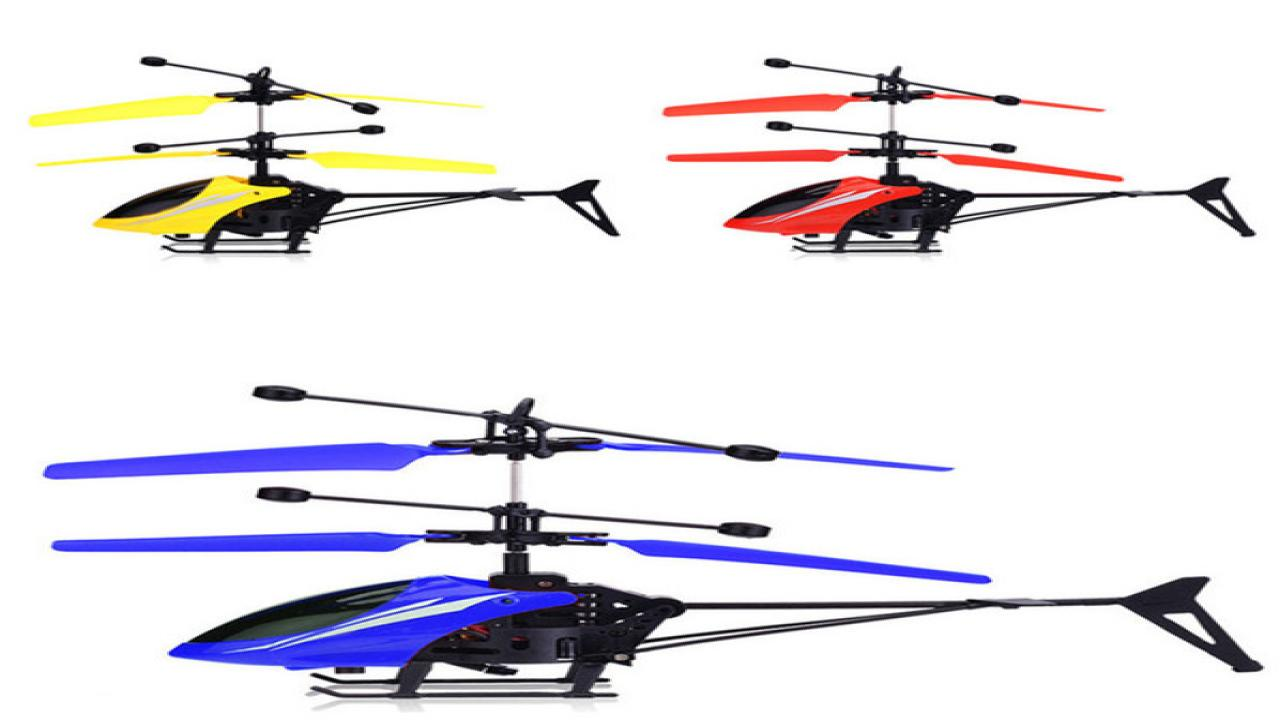Helicopter: (19, 371, 1280, 708), (638, 49, 1265, 262), (12, 48, 630, 264)
